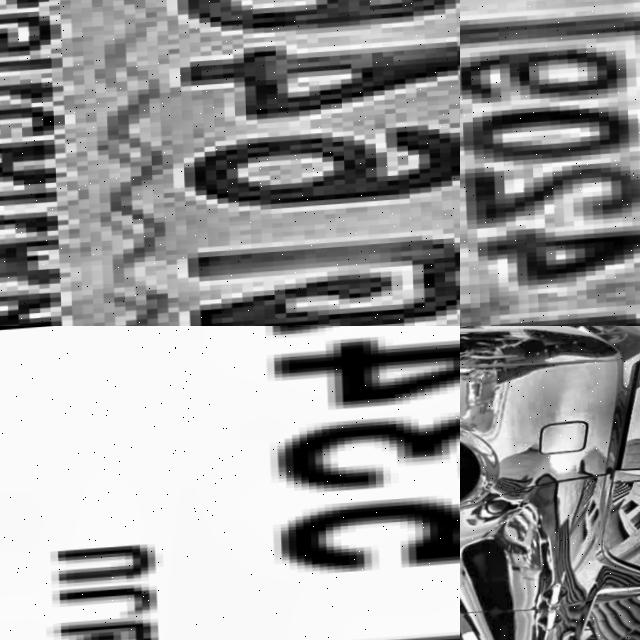license-plate: (0, 0, 460, 326), (0, 326, 460, 640), (460, 0, 640, 326)
